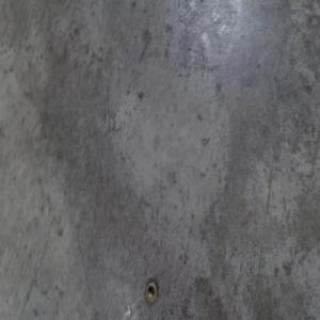Nuttrack_idkeyframe: (144, 277, 157, 305)
